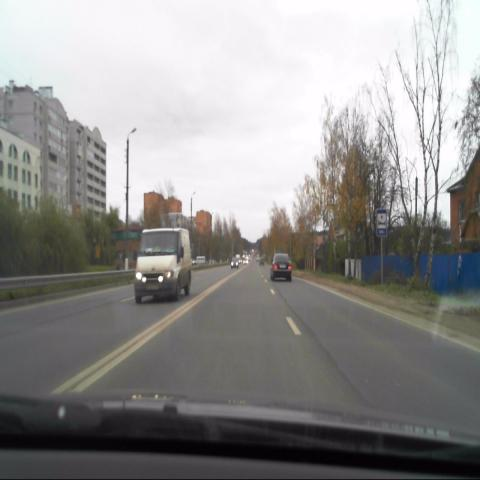7_2: (377, 209, 387, 237)
